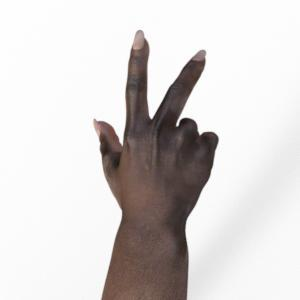scissors: (94, 30, 218, 300)
